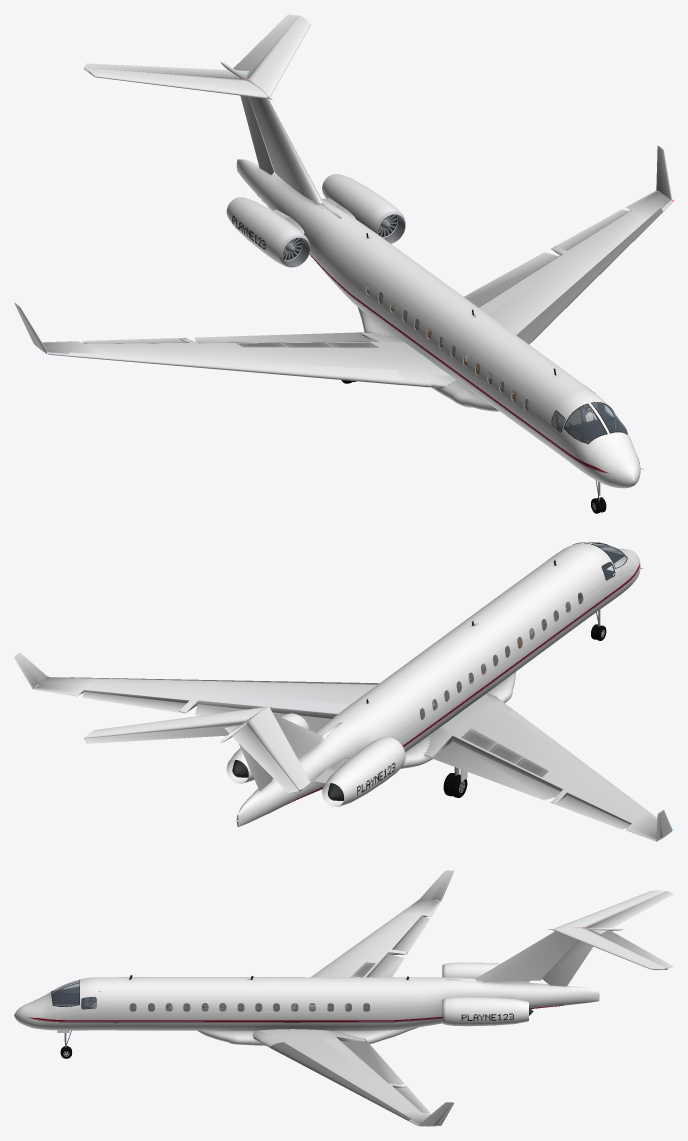
Rendered from global8000.glb.
3 renders of one model, top to bottom at view 1: azimuth 30°, elevation 25°; view 2: azimuth 150°, elevation 25°; view 3: azimuth 270°, elevation 25°, orthographic. The views are drawn at different scales.
Visible parts, largest first — view 1: body, slatR, canopy, slatL, flapR, flapL, elevR, elevL, rudder, spoilerR; view 2: body, flapR, elevR, elevL, canopy, spoilerR, spoilerL, ailL, ailR, slatR, flapL, slatL (+2 smaller); view 3: body, canopy, slatL, rudder, flapL, elevR, elevL, flapR, ailR, spoilerL.
Part boxes in pixels (box(x1,y1,x2,y2)): body: box(14, 15, 673, 488); slatR: box(69, 352, 404, 385); canopy: box(366, 283, 626, 443); slatL: box(516, 208, 662, 344); flapR: box(195, 332, 371, 342); flapL: box(464, 252, 558, 307); elevR: box(84, 63, 249, 78); elevL: box(233, 14, 298, 77); rudder: box(240, 95, 273, 174); spoilerR: box(236, 342, 379, 347); body: box(14, 542, 673, 841); flapR: box(424, 741, 560, 800); elevR: box(224, 724, 299, 792); elevL: box(84, 724, 240, 743); canopy: box(420, 542, 626, 719); spoilerR: box(461, 728, 548, 777); spoilerL: box(236, 696, 350, 712); ailL: box(82, 691, 186, 713); ailR: box(550, 795, 630, 829); slatR: box(508, 711, 657, 819); flapL: box(195, 704, 331, 732); slatL: box(69, 677, 379, 684); body: box(14, 870, 667, 1126); canopy: box(52, 980, 369, 1011); slatL: box(270, 1042, 411, 1120); rudder: box(542, 941, 592, 986); flapL: box(341, 1038, 404, 1084); elevR: box(590, 891, 673, 933); elevL: box(593, 930, 673, 968); flapR: box(369, 954, 404, 977); ailR: box(394, 916, 430, 954); spoilerL: box(322, 1038, 375, 1073).
Bounding box in the file's own units: 31.75 × 8.34 × 38.12.
